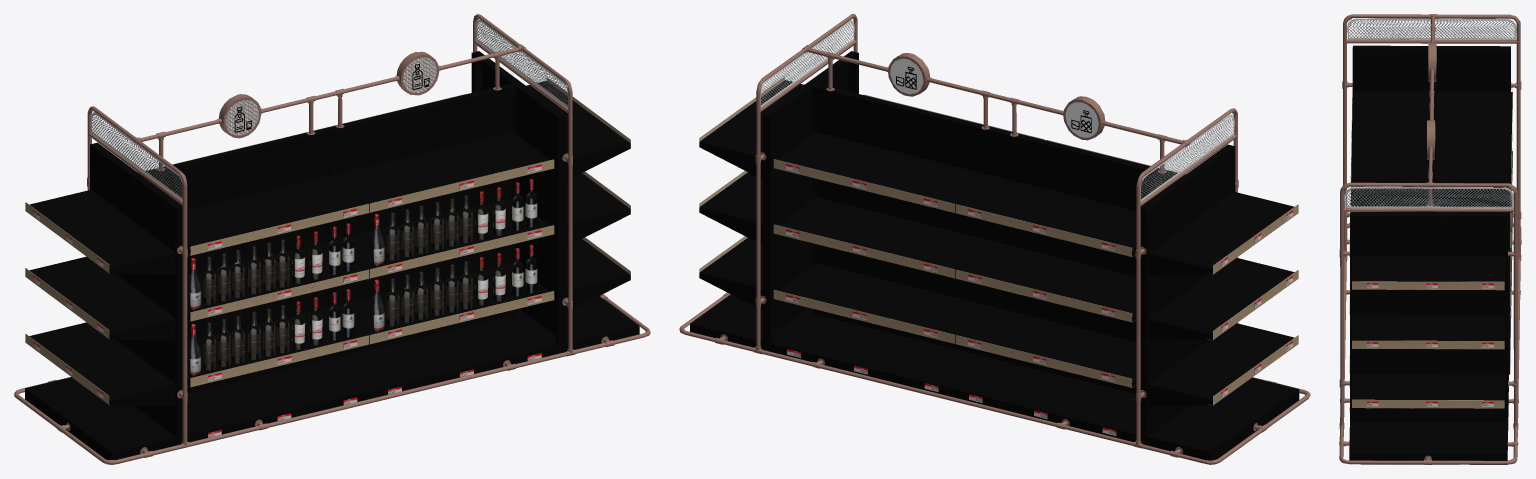
The model's file is isla-licores-optimized.glb.
The picture shows the model from 3 angles, left to right: view 1: azimuth 30°, elevation 25°; view 2: azimuth 150°, elevation 25°; view 3: azimuth 270°, elevation 25°; orthographic projection. The views are drawn at different scales.
Parts seen in each view (by area): view 1: Geom3D (×12); view 2: Geom3D (×8); view 3: Geom3D (×7).
Part boxes in pixels (box(x1,y1,x2,y2)): Geom3D (×12): box(14, 14, 650, 464); Geom3D (×8): box(679, 14, 1310, 464); Geom3D (×7): box(1339, 14, 1521, 464).
Bounding box in the file's own units: 3.56 × 1.85 × 1.15.
Materials: 19 (12 with a texture image).
